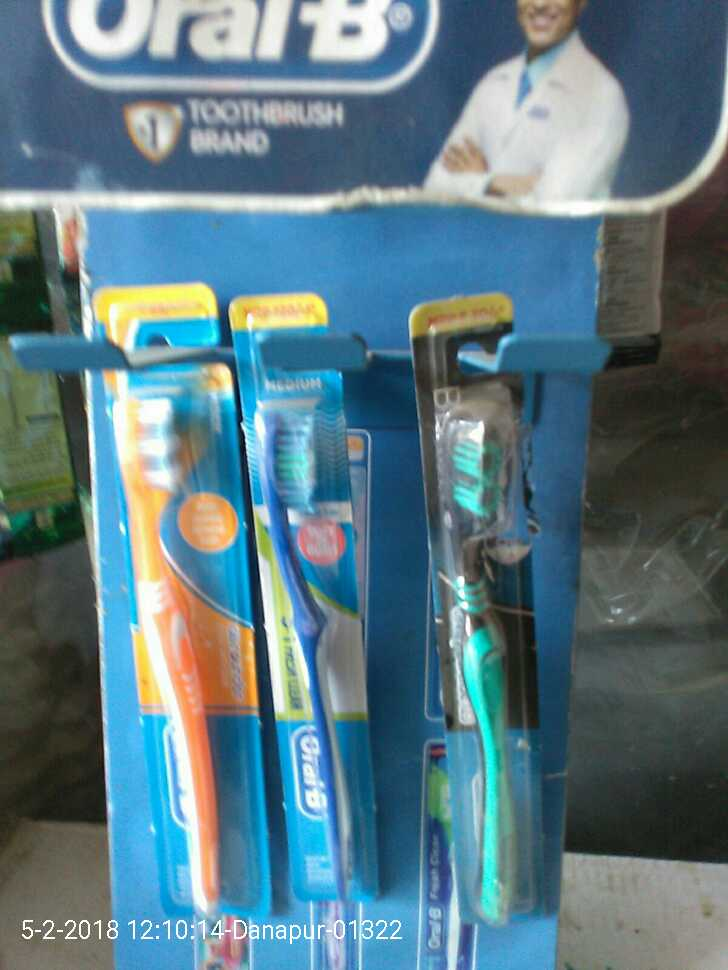oralb: (93, 296, 274, 915), (413, 301, 551, 921), (233, 315, 379, 901)
